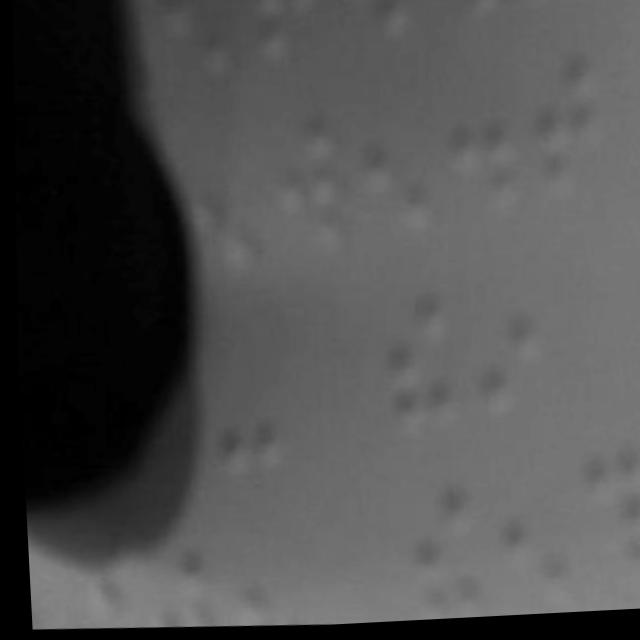braiile: (367, 270, 456, 447), (194, 313, 283, 488), (427, 69, 522, 232), (457, 264, 548, 430), (253, 112, 344, 271), (343, 92, 432, 253), (516, 57, 603, 214), (394, 469, 480, 625), (485, 457, 568, 613), (562, 448, 640, 583), (322, 0, 409, 67), (234, 0, 315, 65), (628, 228, 640, 396)
